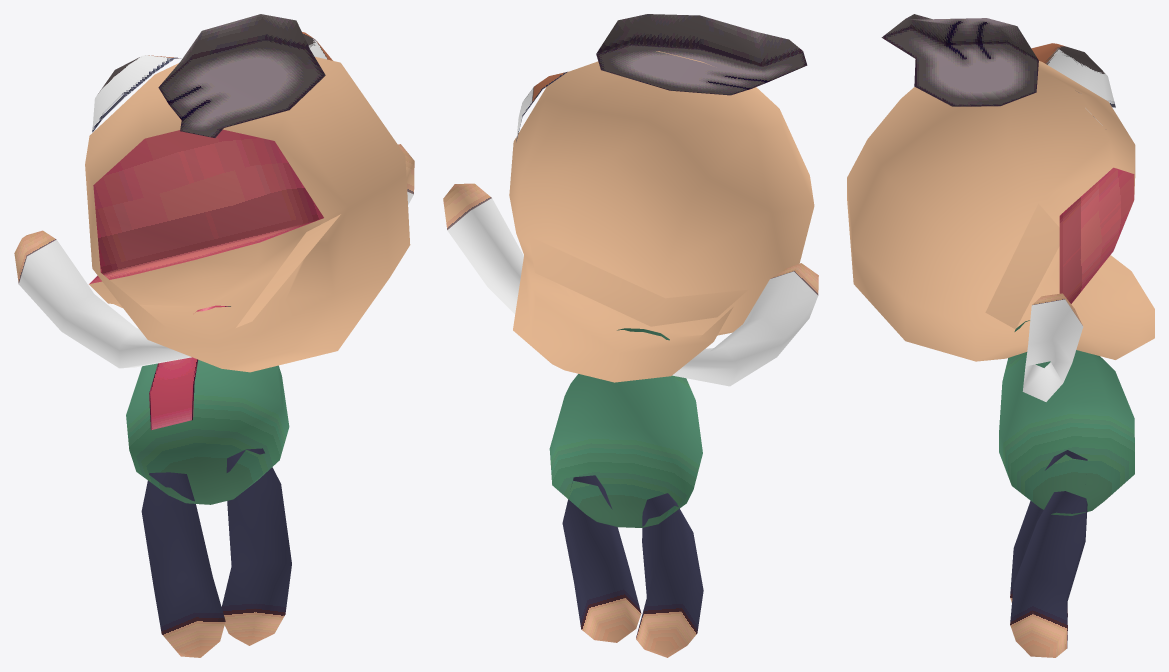
The model's file is ps2_save-icons_gokujouseitokai.glb.
3 views of the same model, side by side, from view 1: azimuth 30°, elevation 25°; view 2: azimuth 150°, elevation 25°; view 3: azimuth 270°, elevation 25° (orthographic). The views are drawn at different scales.
Visible parts, largest first — view 1: static.ico; view 2: static.ico; view 3: static.ico.
Part boxes in pixels (bbox=[...]): static.ico: bbox=[14, 14, 414, 657]; static.ico: bbox=[443, 14, 818, 657]; static.ico: bbox=[847, 14, 1154, 657].
Bounding box in the file's own units: 2.99 × 4.7 × 2.14.
Materials: 1 (1 with a texture image).
